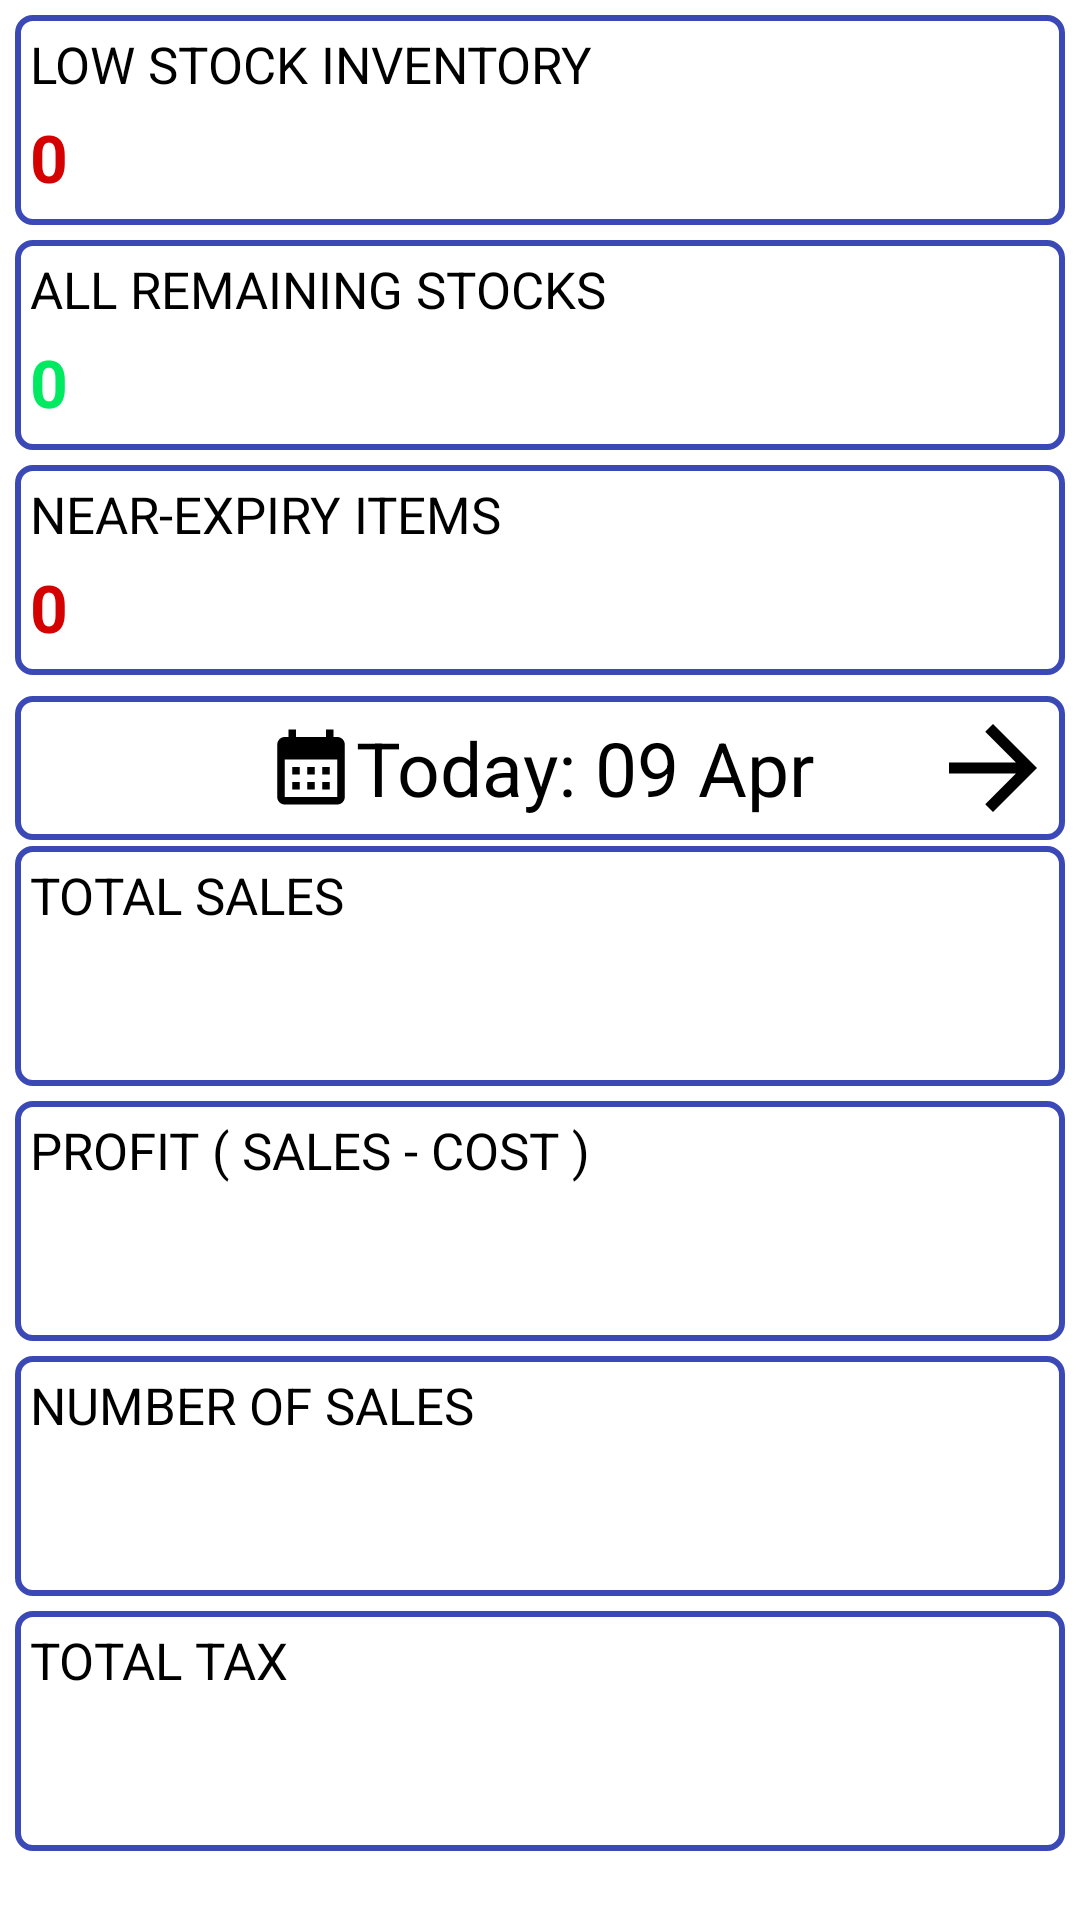

Icons on this 1080 × 1920 Android screen, each with the point to tap as [x,y]:
forward arrow: [993,768]
